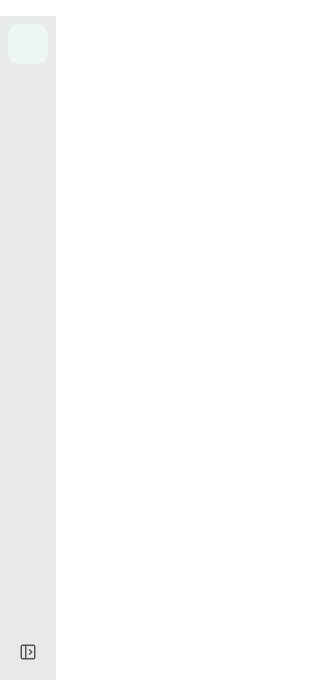
AppSidebar › expands from the bottom toggle to show only the main module links
What coordinates should you click on to do the following:
click the button named "Expand sidebar"
I would click on:
 (28, 652)
Its box is [8, 632, 48, 672].
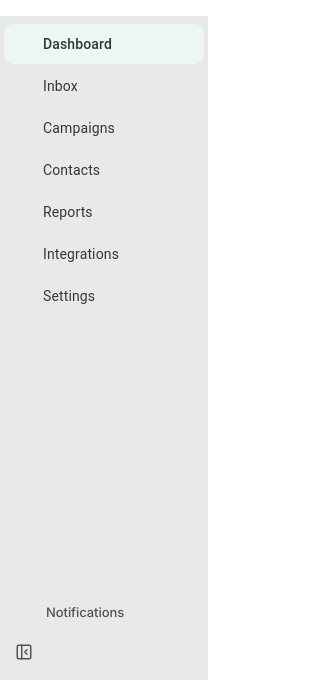
Expected: the link "Campaigns" is shown, [43, 120, 115, 136]
Expected: the link "Contacts" is shown, [43, 162, 100, 178]
What coordinates should you click on to do the following:
click the button named "Collapse sidebar"
I would click on:
 (24, 652)
Its box is [4, 632, 44, 672].
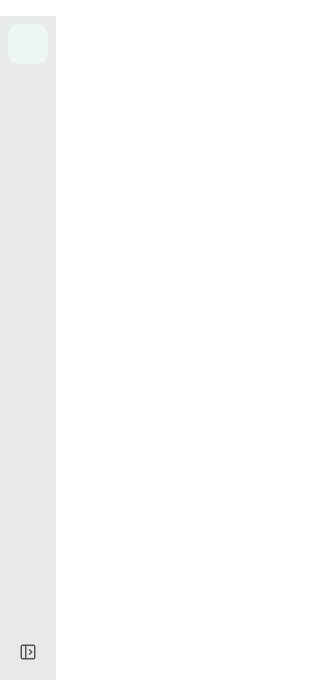
Result: the text "Contacts" is gone
